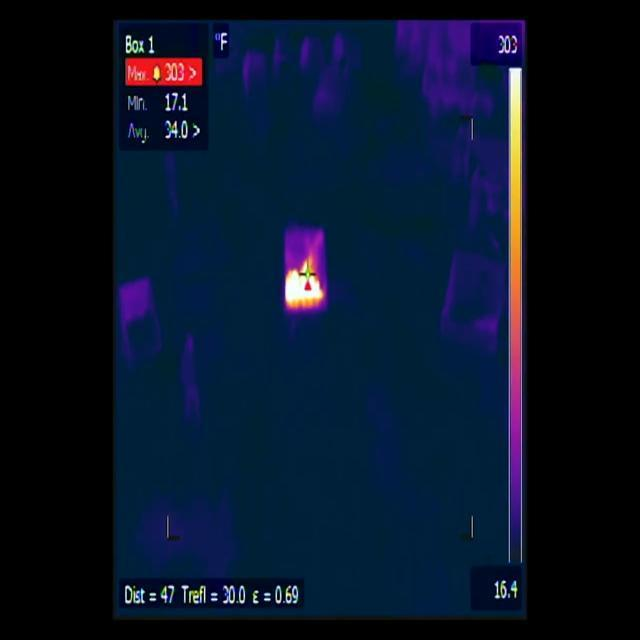fire: (286, 230, 326, 313)
